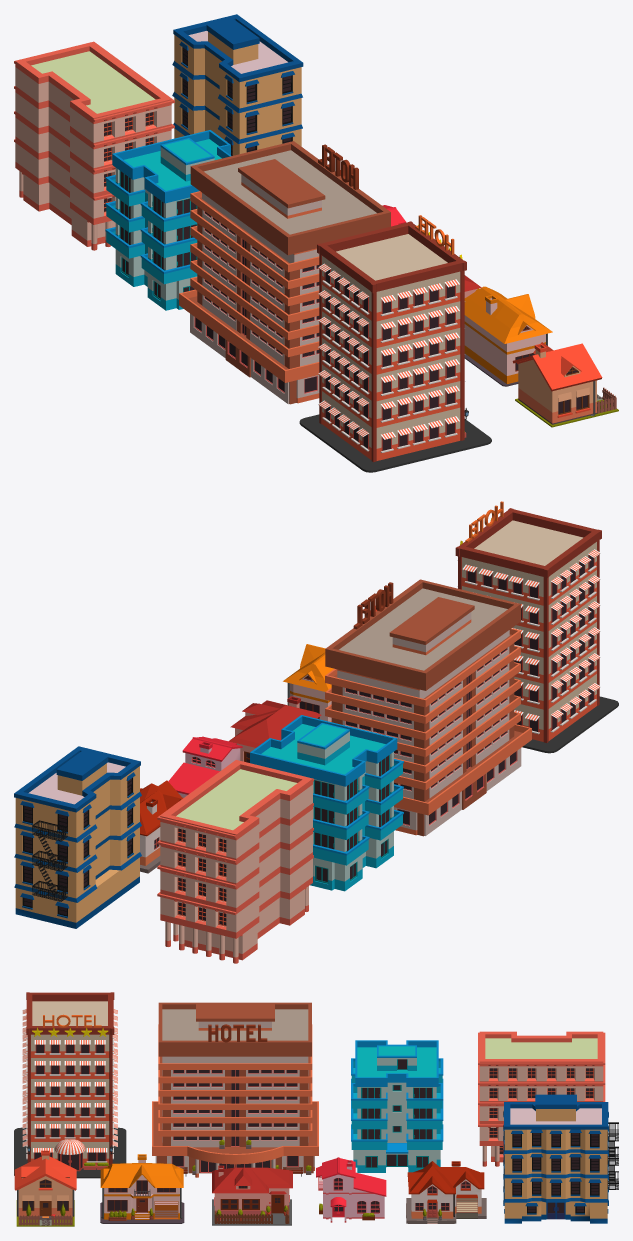
The model's file is buildings.fbx.
3 renders of one model, top to bottom at view 1: azimuth 30°, elevation 25°; view 2: azimuth 150°, elevation 25°; view 3: azimuth 270°, elevation 25°, orthographic. The views are drawn at different scales.
Parts seen in each view (by area): view 1: PublicBuilding_1, PublicBuilding_2, PublicBuilding_10, PublicBuilding_9, PublicBuilding_8, PublicBuilding_3, PublicBuilding_4; view 2: PublicBuilding_2, PublicBuilding_10, PublicBuilding_1, PublicBuilding_9, PublicBuilding_8, PublicBuilding_5, PublicBuilding_6, PublicBuilding_7, PublicBuilding_4; view 3: PublicBuilding_2, PublicBuilding_1, PublicBuilding_9, PublicBuilding_8, PublicBuilding_10, PublicBuilding_4, PublicBuilding_5, PublicBuilding_7, PublicBuilding_3, PublicBuilding_6.
Boxes of the visible parts, x1,y1,x2,y2 form: PublicBuilding_1: [299, 215, 491, 472]; PublicBuilding_2: [179, 141, 390, 404]; PublicBuilding_10: [14, 41, 174, 250]; PublicBuilding_9: [172, 14, 303, 155]; PublicBuilding_8: [105, 130, 231, 310]; PublicBuilding_3: [512, 342, 618, 427]; PublicBuilding_4: [464, 286, 552, 386]; PublicBuilding_2: [325, 579, 531, 836]; PublicBuilding_10: [157, 760, 313, 963]; PublicBuilding_1: [455, 501, 618, 753]; PublicBuilding_9: [14, 746, 141, 928]; PublicBuilding_8: [250, 715, 403, 891]; PublicBuilding_5: [229, 696, 321, 762]; PublicBuilding_6: [168, 736, 242, 797]; PublicBuilding_7: [140, 780, 183, 873]; PublicBuilding_4: [283, 644, 333, 721]; PublicBuilding_2: [152, 1002, 318, 1177]; PublicBuilding_1: [14, 992, 126, 1178]; PublicBuilding_9: [503, 1094, 618, 1223]; PublicBuilding_8: [351, 1040, 443, 1172]; PublicBuilding_10: [478, 1031, 605, 1166]; PublicBuilding_4: [100, 1154, 184, 1223]; PublicBuilding_5: [212, 1165, 292, 1225]; PublicBuilding_7: [406, 1161, 486, 1223]; PublicBuilding_3: [14, 1150, 76, 1226]; PublicBuilding_6: [316, 1157, 386, 1222].
Bounding box in the file's own units: 1367 × 1010 × 3589.
